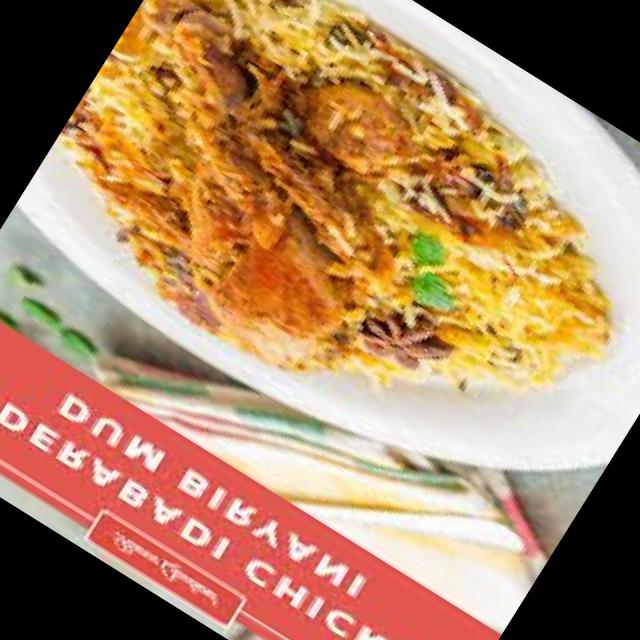Biryani: (9, 0, 640, 521)
